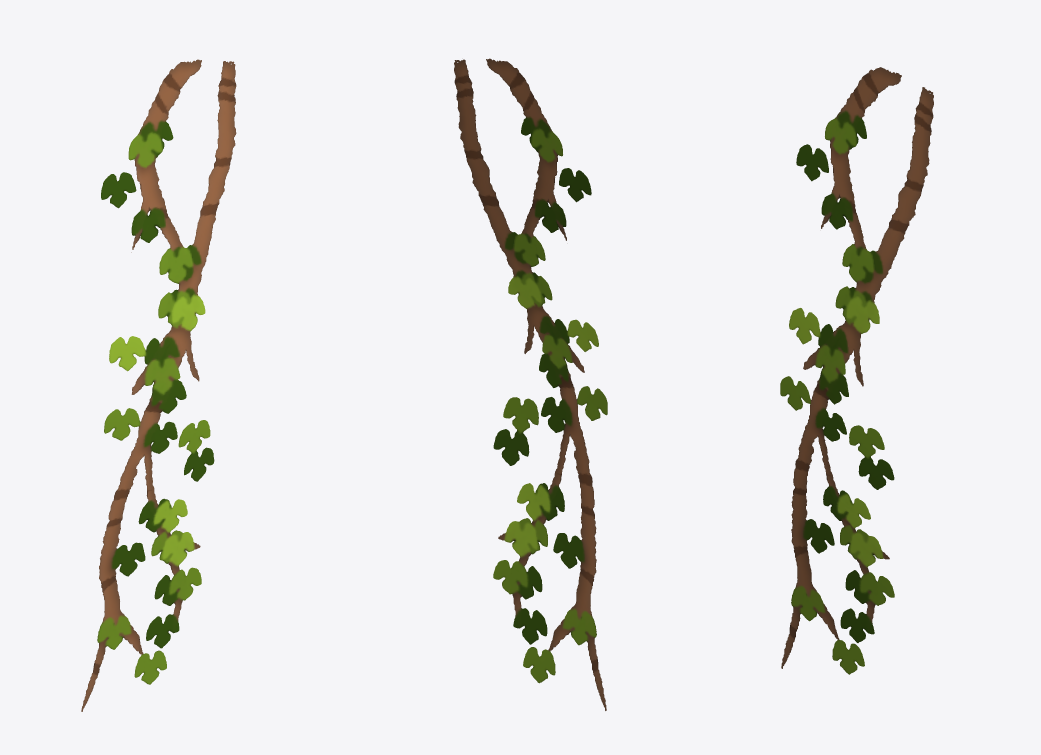
Rendered from sp_veg_ivy_02.fbx.
3 renders of one model, left to right at view 1: azimuth 30°, elevation 25°; view 2: azimuth 150°, elevation 25°; view 3: azimuth 330°, elevation 25°, orthographic.
Visible parts, largest first — view 1: veg_ivy_02; view 2: veg_ivy_02; view 3: veg_ivy_02.
Boxes of the visible parts, x1,y1,x2,y2 form: veg_ivy_02: [81, 59, 236, 711]; veg_ivy_02: [454, 58, 607, 710]; veg_ivy_02: [780, 67, 933, 674].
Bounding box in the file's own units: 50 × 100 × 5.5.
